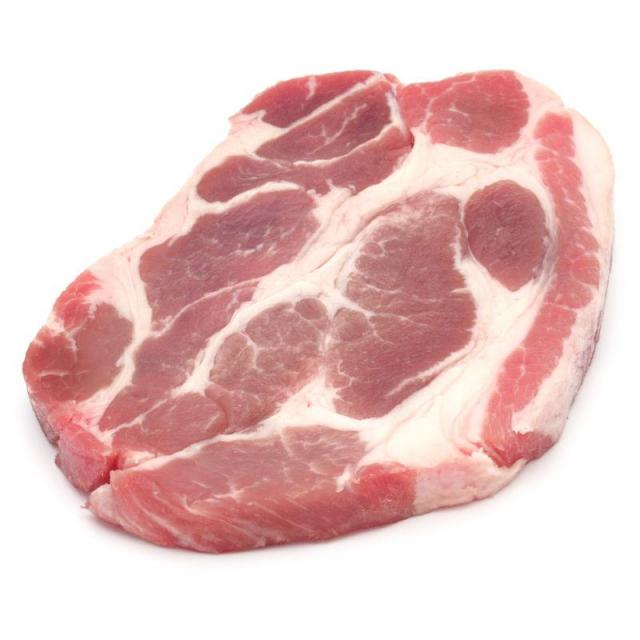Pork: (45, 66, 617, 540)
